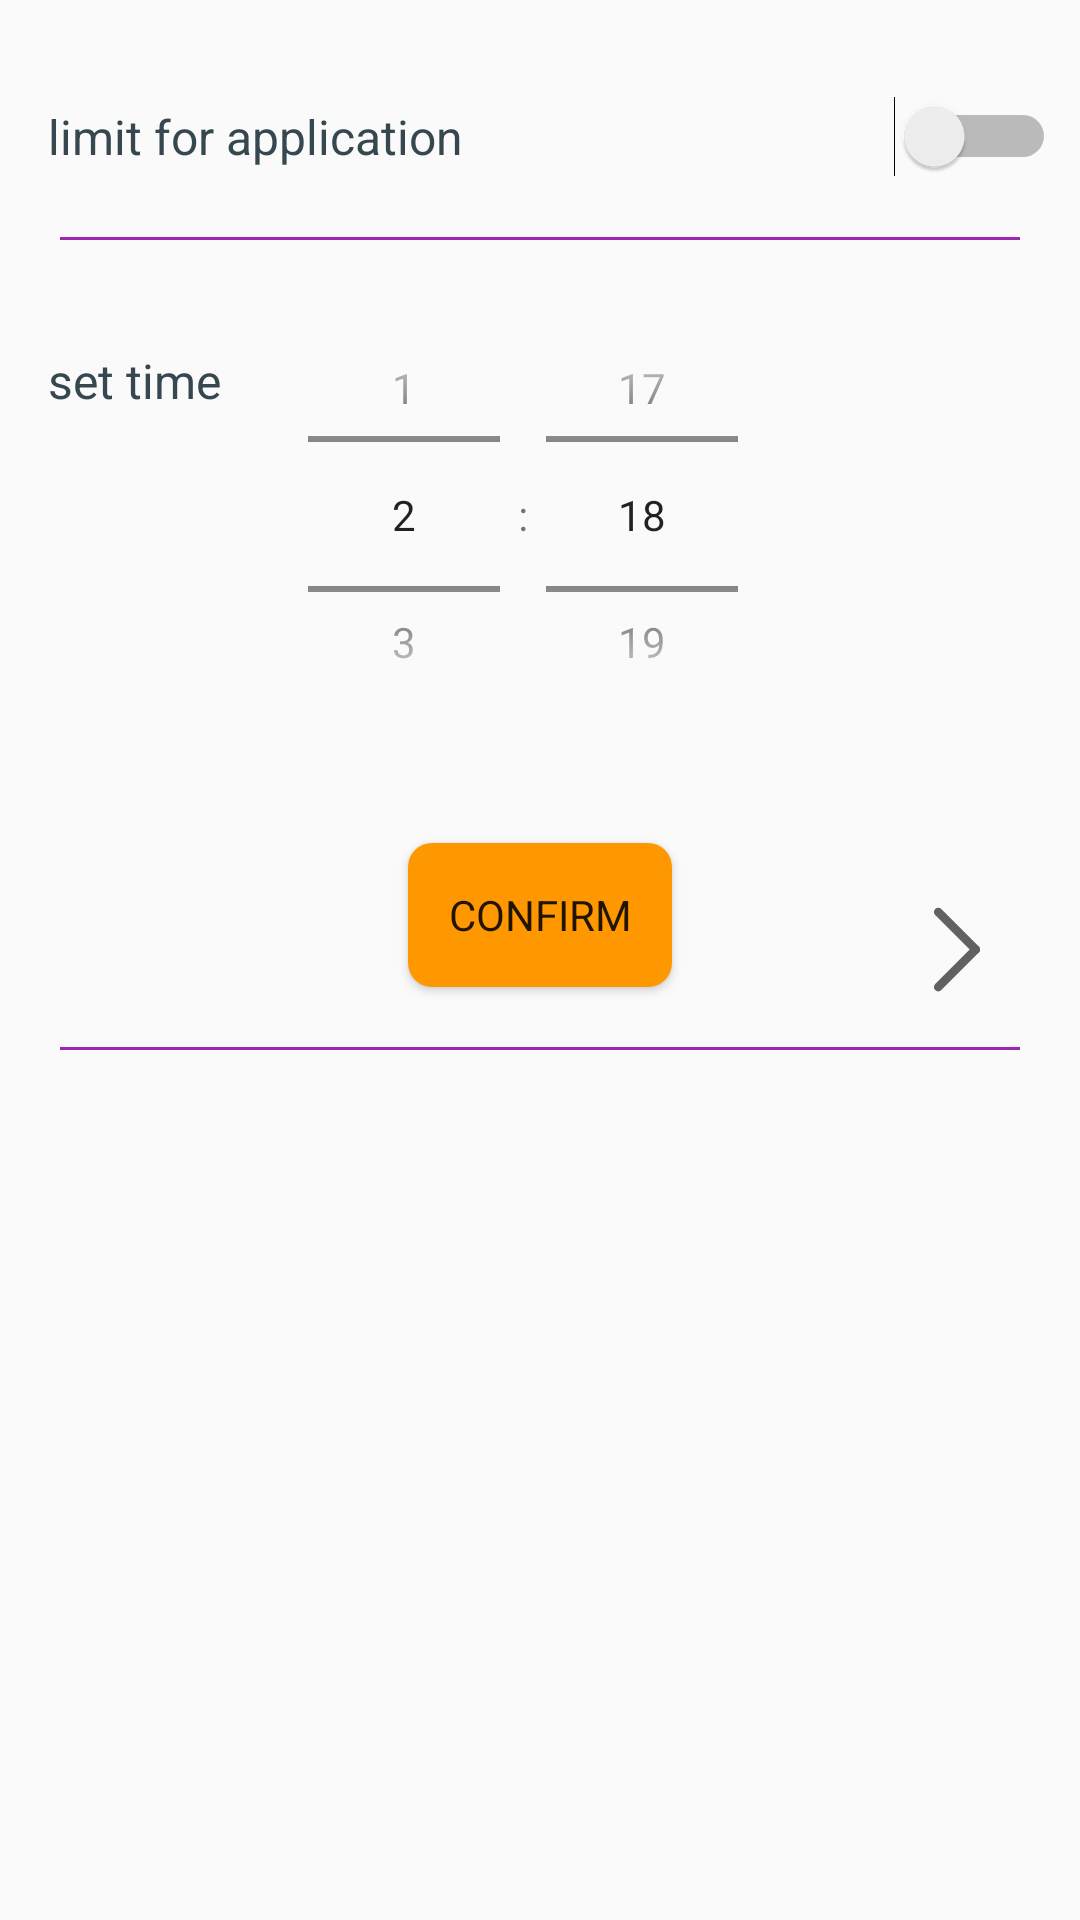

Screen size 1080*1920. Icon name, then its box in pixels as (x1, y1, x2, y2):
right: (934, 907, 980, 992)
